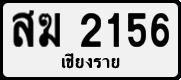letters: (10, 10, 35, 48), (37, 11, 62, 48), (78, 12, 102, 48), (126, 11, 147, 49), (149, 12, 170, 48), (106, 12, 121, 48)
province: (59, 52, 120, 70)
